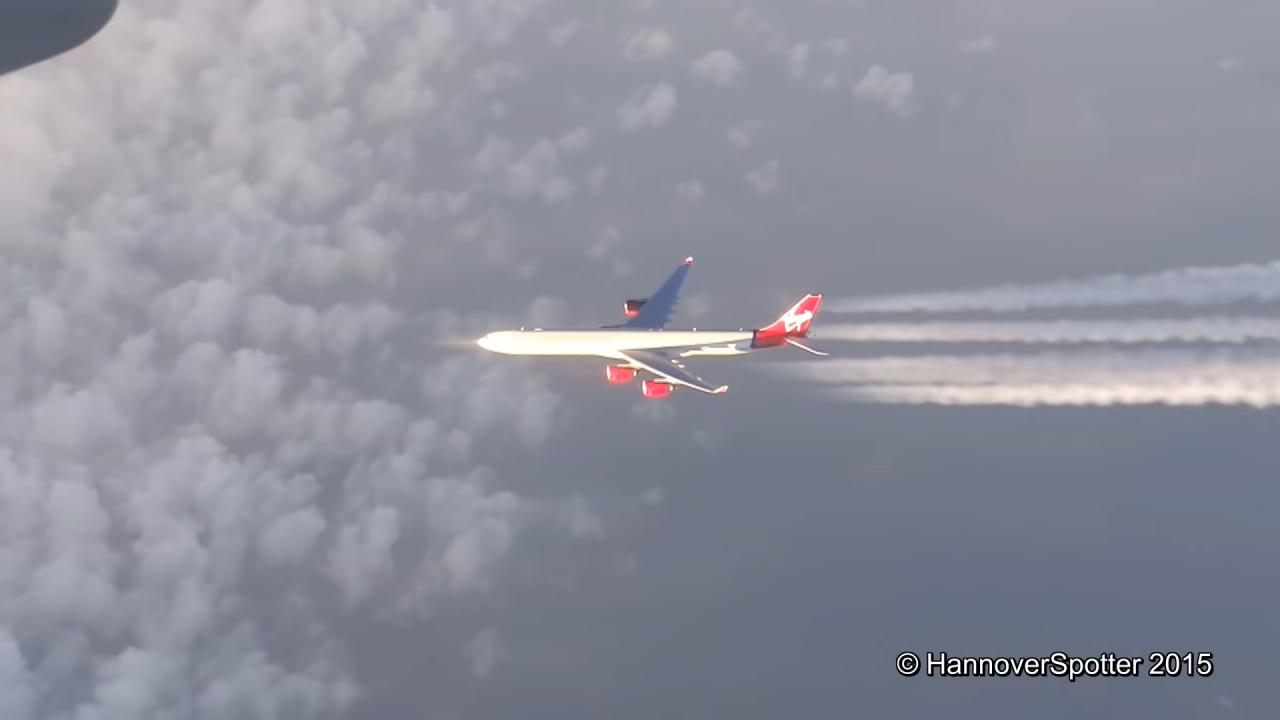Airplane: (466, 243, 839, 412)
